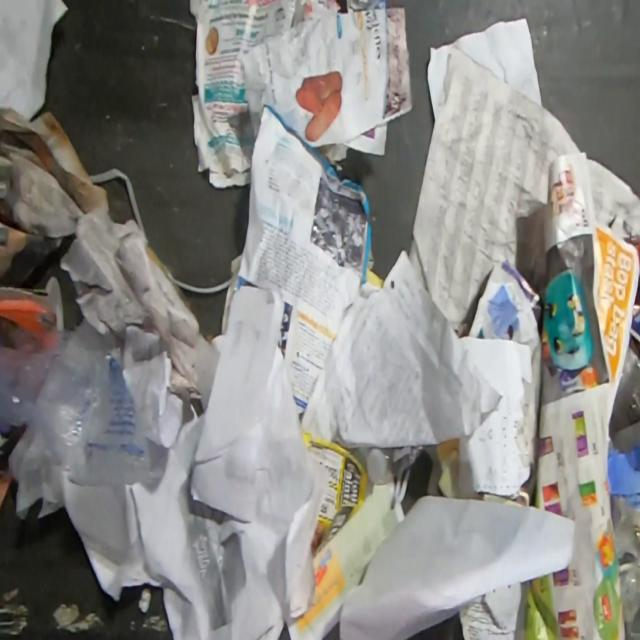cardboard: (0, 259, 85, 341), (608, 439, 640, 511)
rigid_plastic: (343, 442, 427, 485)
soft_plastic: (0, 327, 166, 489), (611, 494, 640, 639)
